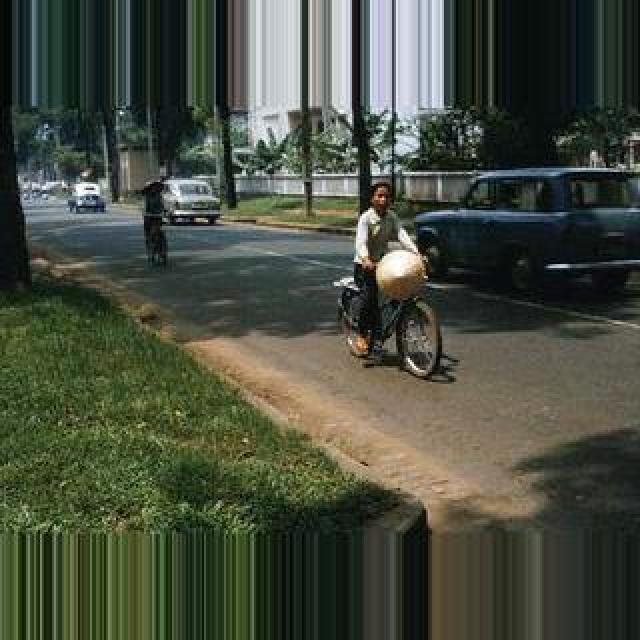Bus-Bike: (414, 166, 640, 298), (154, 178, 222, 226), (66, 190, 106, 214)
MC-Bike: (348, 182, 422, 350), (142, 176, 172, 264)
Person: (336, 252, 442, 378)
